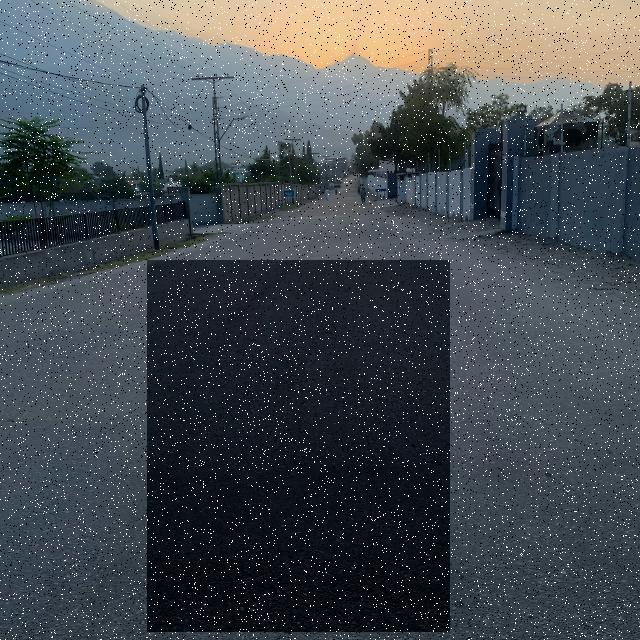straight: (147, 260, 450, 632)
